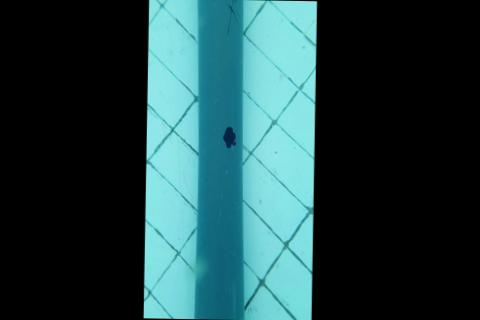kebocoran: (222, 125, 237, 149)
keretakan: (224, 0, 239, 37)
